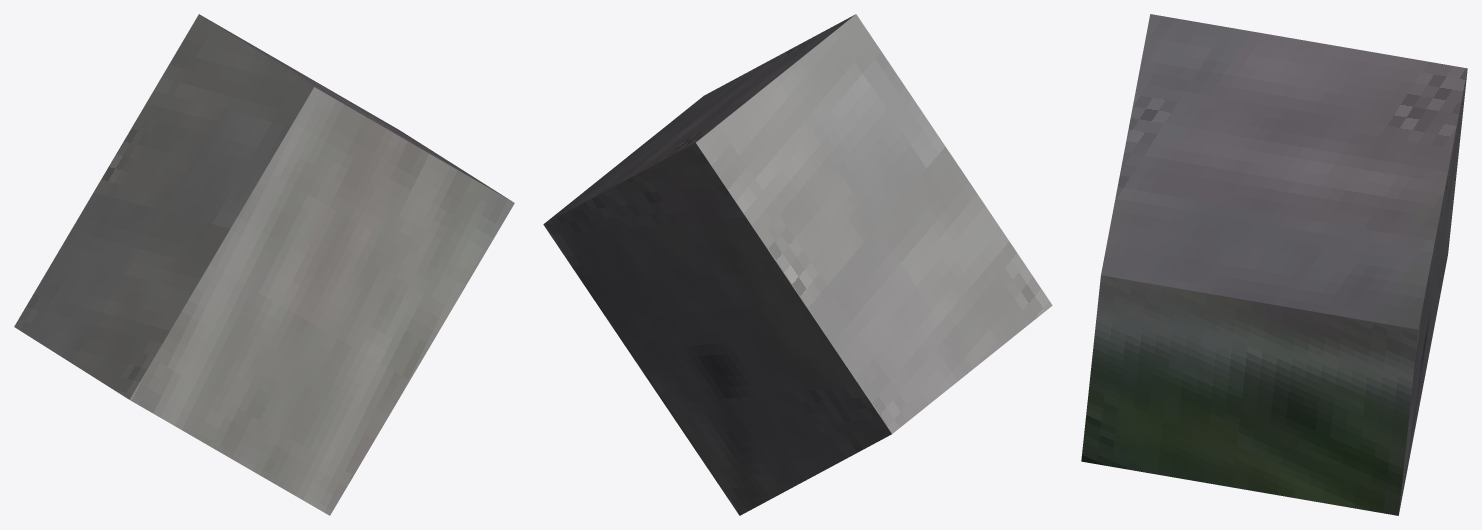
3 renders of one model, left to right at view 1: azimuth 30°, elevation 25°; view 2: azimuth 150°, elevation 25°; view 3: azimuth 270°, elevation 25°, orthographic. The views are drawn at different scales.
Visible parts, largest first — view 1: BAG_0599100010048540; view 2: BAG_0599100010048540; view 3: BAG_0599100010048540.
Part boxes in pixels (left/top/right/bottom): BAG_0599100010048540: left=14, top=14, right=514, bottom=515; BAG_0599100010048540: left=543, top=14, right=1052, bottom=515; BAG_0599100010048540: left=1081, top=14, right=1467, bottom=515.
Bounding box in the file's own units: 4.05 × 4.27 × 3.01.
Materials: 2 (1 with a texture image).
